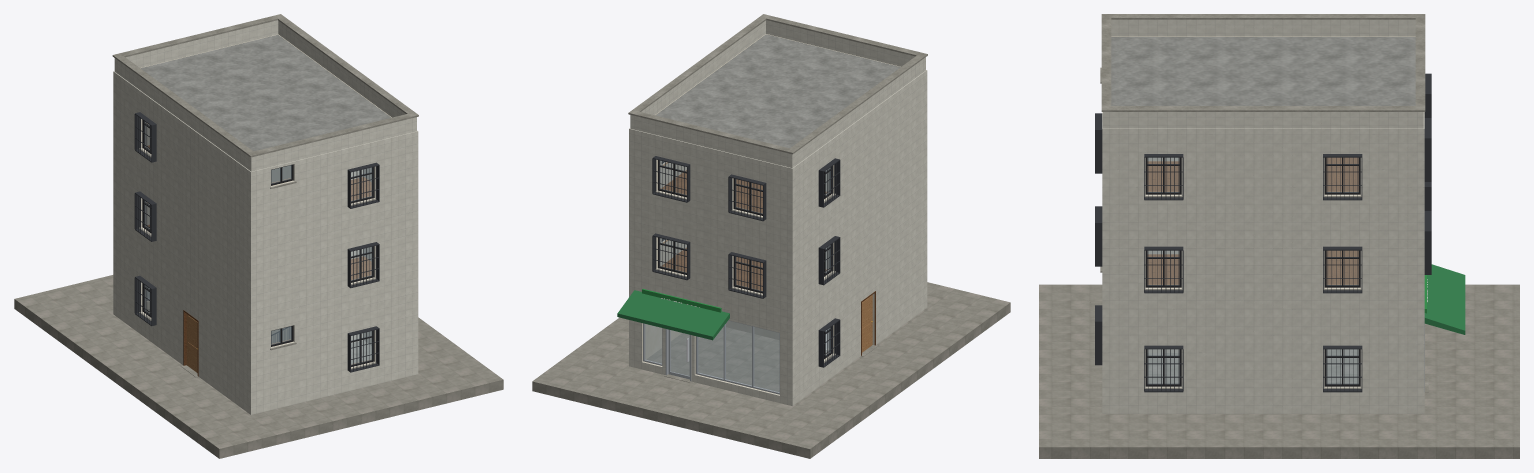
Rendered from b_bubble_tea_flats.gltf.
3 views of the same model, side by side, from view 1: azimuth 30°, elevation 25°; view 2: azimuth 150°, elevation 25°; view 3: azimuth 270°, elevation 25° (orthographic). The views are drawn at different scales.
Parts seen in each view (by area): view 1: S_bubble_tea_flats, D_bubble_tea_flats_F1_E1_Door0; view 2: S_bubble_tea_flats, D_bubble_tea_flats_F1_S2_Door0, D_bubble_tea_flats_F1_E1_Door0; view 3: S_bubble_tea_flats.
Part boxes in pixels (<box>): S_bubble_tea_flats: <box>14,14,503,458</box>; D_bubble_tea_flats_F1_E1_Door0: <box>186,314,197,372</box>; S_bubble_tea_flats: <box>532,14,1010,458</box>; D_bubble_tea_flats_F1_S2_Door0: <box>668,329,689,379</box>; D_bubble_tea_flats_F1_E1_Door0: <box>862,295,872,352</box>; S_bubble_tea_flats: <box>1039,14,1519,458</box>.
Bounding box in the file's own units: 12 × 10.86 × 15.
Materials: 19 (9 with a texture image).
